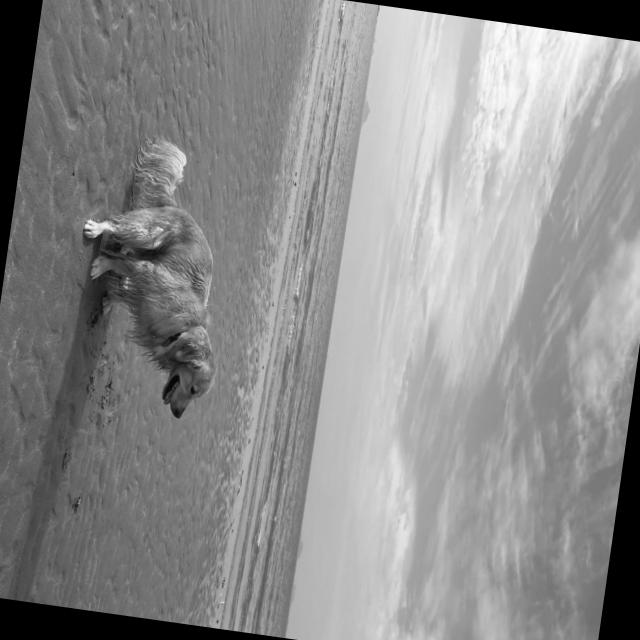squatting: (55, 126, 248, 430)
